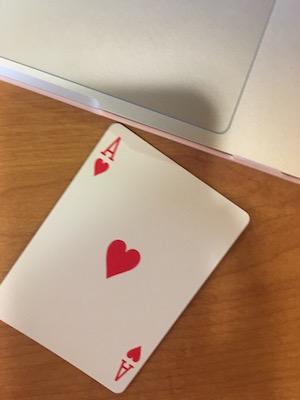AceOfHearts: (3, 123, 254, 396)
